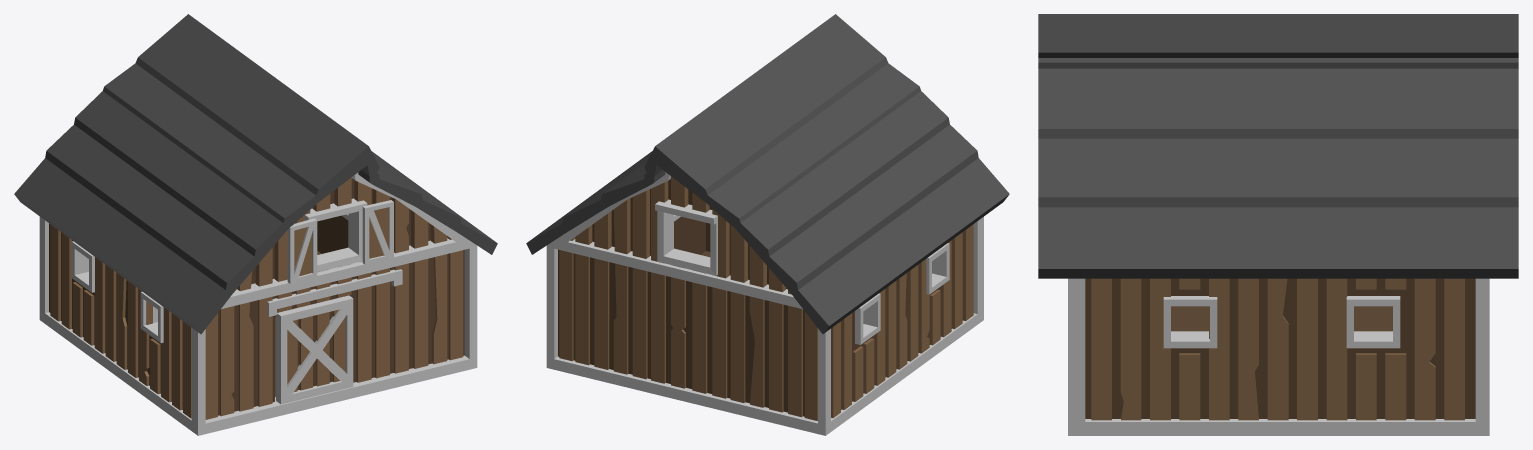
The model's file is kit-shed.glb.
3 views of the same model, side by side, from view 1: azimuth 30°, elevation 25°; view 2: azimuth 150°, elevation 25°; view 3: azimuth 270°, elevation 25° (orthographic). The views are drawn at different scales.
Parts seen in each view (by area): view 1: Small_Barn_Cube.013; view 2: Small_Barn_Cube.013; view 3: Small_Barn_Cube.013.
Boxes of the visible parts, box(x1,y1,x2,y2) form: Small_Barn_Cube.013: box(14, 14, 497, 435); Small_Barn_Cube.013: box(526, 14, 1009, 435); Small_Barn_Cube.013: box(1038, 14, 1518, 435).
Bounding box in the file's own units: 2.4 × 1.96 × 2.48.
